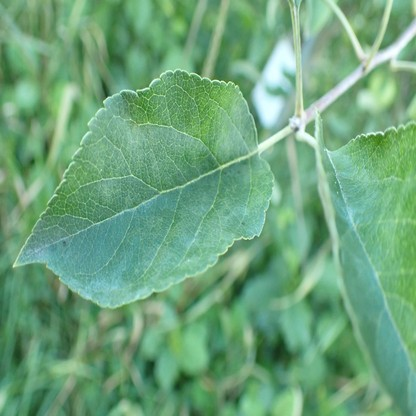powdery_mildew: (331, 192, 363, 227), (17, 238, 46, 265), (88, 273, 122, 293)
